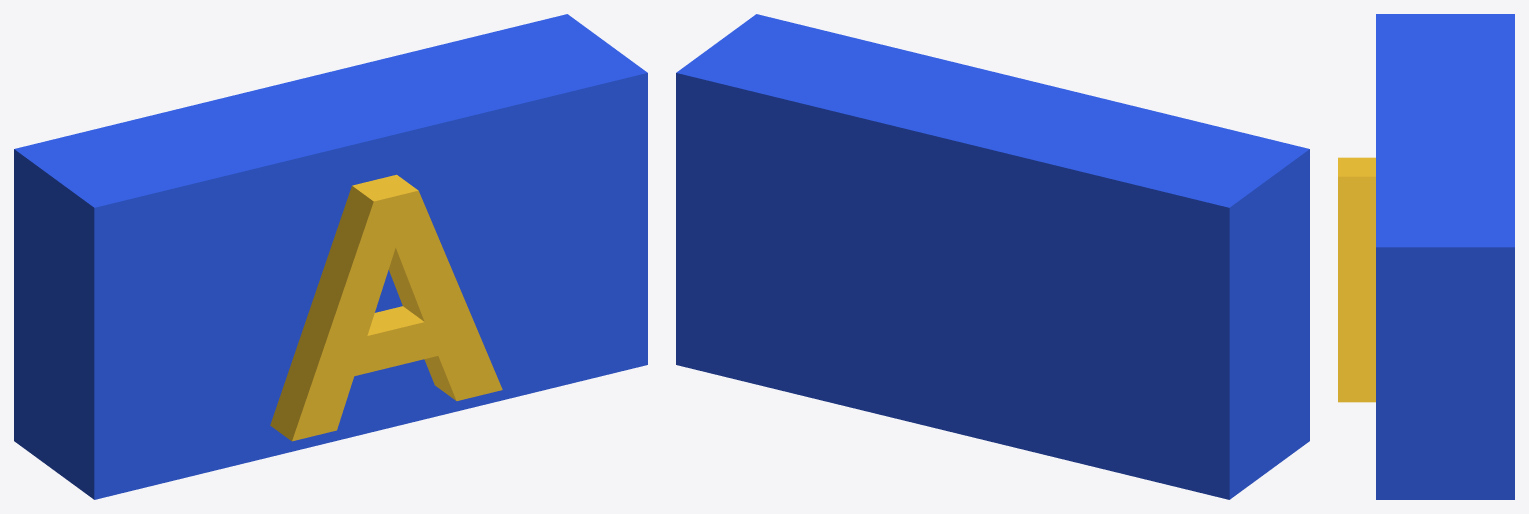
3 renders of one model, left to right at view 1: azimuth 30°, elevation 25°; view 2: azimuth 150°, elevation 25°; view 3: azimuth 270°, elevation 25°, orthographic. The views are drawn at different scales.
Visible parts, largest first — view 1: Cube.001, Text.003; view 2: Cube.001; view 3: Cube.001, Text.003.
Boxes of the visible parts, left/top/right/bottom form: Cube.001: left=14, top=14, right=647, bottom=499; Text.003: left=270, top=174, right=502, bottom=441; Cube.001: left=676, top=14, right=1309, bottom=499; Cube.001: left=1376, top=14, right=1514, bottom=499; Text.003: left=1338, top=157, right=1375, bottom=402.
Size of the model in its own units: 1.32 by 0.6639 by 0.421.
